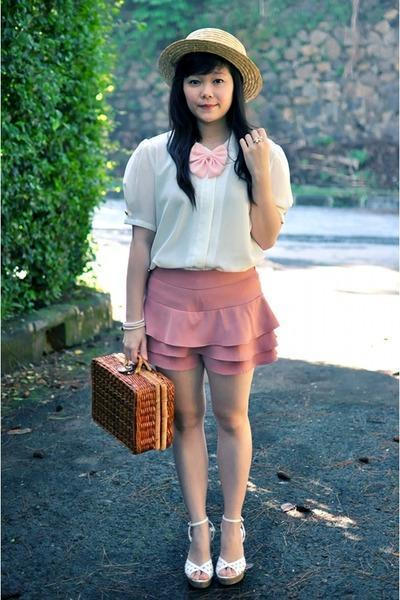bag: (91, 345, 183, 454)
hat: (156, 28, 261, 83)
shirt: (113, 132, 293, 271)
shoe: (185, 540, 252, 582)
skirt: (132, 252, 280, 371)
